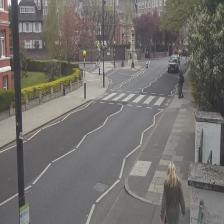person: (160, 162, 185, 224)
